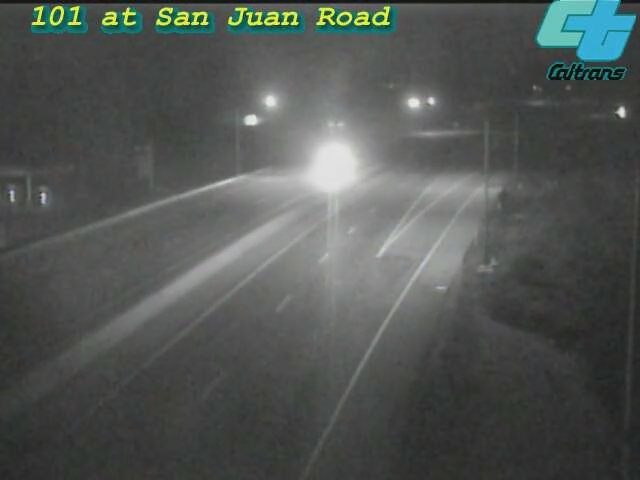vehicle: (286, 128, 366, 208), (595, 87, 640, 137)
